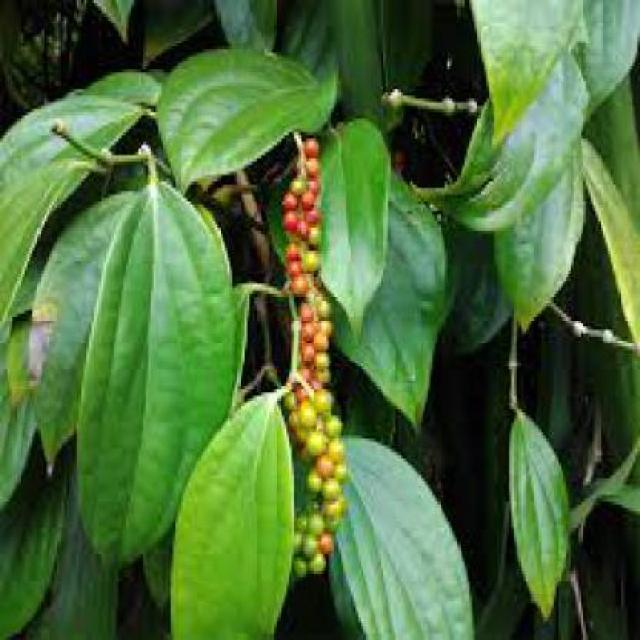RIPE: (280, 129, 345, 565)
